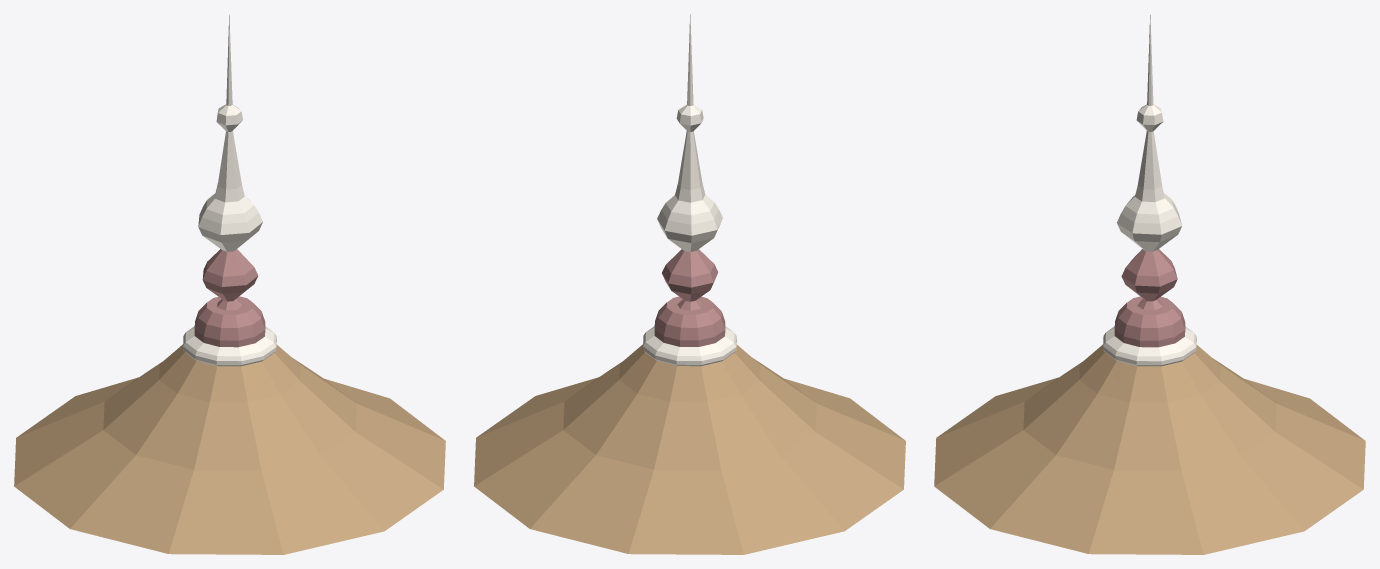
The model's file is Building_Temple_Indian_Top_02.fbx.
The picture shows the model from 3 angles, left to right: view 1: azimuth 30°, elevation 25°; view 2: azimuth 150°, elevation 25°; view 3: azimuth 270°, elevation 25°; orthographic projection.
Visible parts, largest first — view 1: Building_Temple_Indian_Top_02; view 2: Building_Temple_Indian_Top_02; view 3: Building_Temple_Indian_Top_02.
Part boxes in pixels (left/top/right/bottom): Building_Temple_Indian_Top_02: left=14, top=14, right=445, bottom=554; Building_Temple_Indian_Top_02: left=474, top=14, right=905, bottom=554; Building_Temple_Indian_Top_02: left=934, top=14, right=1365, bottom=554.
Size of the model in its own units: 270 by 310 by 270.
